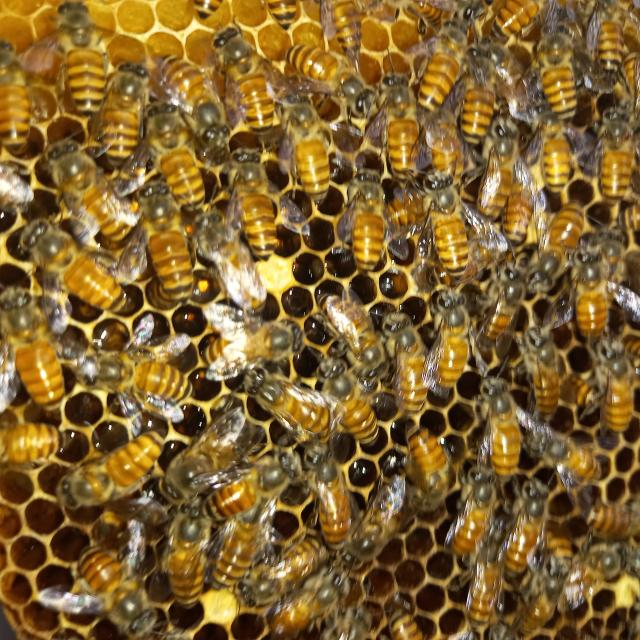honeybee: (49, 416, 169, 514), (0, 288, 93, 414), (24, 215, 134, 318), (39, 136, 141, 246), (201, 23, 286, 144), (139, 102, 219, 219), (124, 180, 202, 298), (421, 164, 494, 284), (368, 72, 449, 180), (167, 414, 264, 504), (338, 464, 424, 565), (278, 38, 378, 123), (72, 552, 168, 640), (187, 449, 306, 519), (187, 202, 265, 308), (236, 368, 338, 449), (43, 0, 113, 117), (79, 352, 192, 424), (513, 21, 595, 120), (151, 53, 226, 161), (205, 311, 310, 385), (225, 146, 293, 258), (277, 88, 337, 199), (528, 199, 590, 302), (520, 100, 588, 192), (161, 496, 215, 608), (414, 22, 472, 122), (319, 361, 384, 449), (414, 292, 472, 390), (563, 247, 623, 339), (480, 374, 532, 480), (404, 423, 465, 511), (377, 313, 430, 414), (99, 57, 147, 166), (455, 40, 504, 146), (339, 168, 388, 274), (238, 542, 324, 602), (518, 319, 568, 420), (505, 558, 566, 640), (590, 334, 640, 434), (460, 522, 503, 636), (328, 298, 386, 382), (472, 262, 526, 351), (567, 0, 627, 80), (592, 104, 640, 201), (500, 478, 545, 578), (444, 466, 495, 552), (208, 508, 260, 590), (0, 43, 37, 158), (275, 575, 338, 640), (0, 423, 69, 478), (313, 0, 375, 61), (536, 432, 602, 488), (313, 455, 350, 551), (499, 164, 539, 249), (481, 114, 512, 222), (484, 0, 553, 46), (402, 0, 483, 34), (593, 543, 640, 588), (381, 604, 434, 640), (0, 166, 35, 218), (536, 525, 571, 576), (587, 502, 640, 534), (258, 0, 306, 33), (191, 0, 228, 23)
